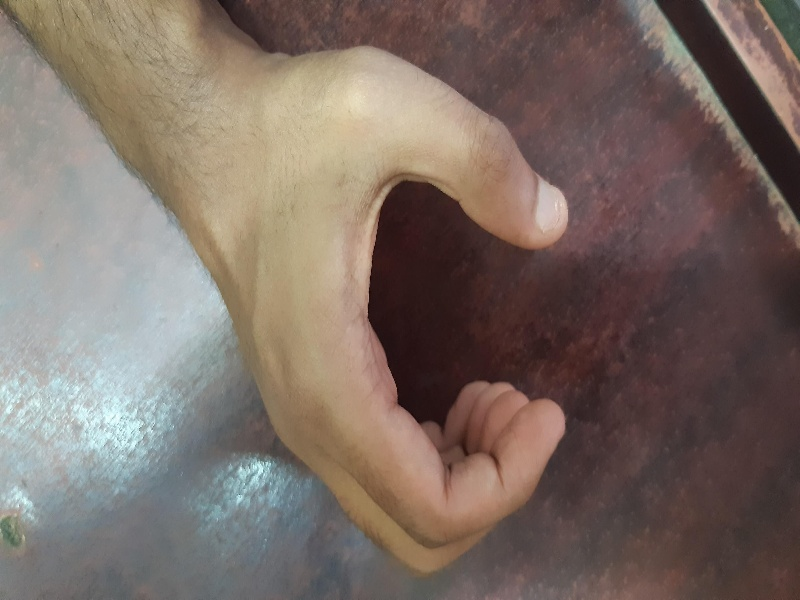one: (180, 29, 604, 582)
